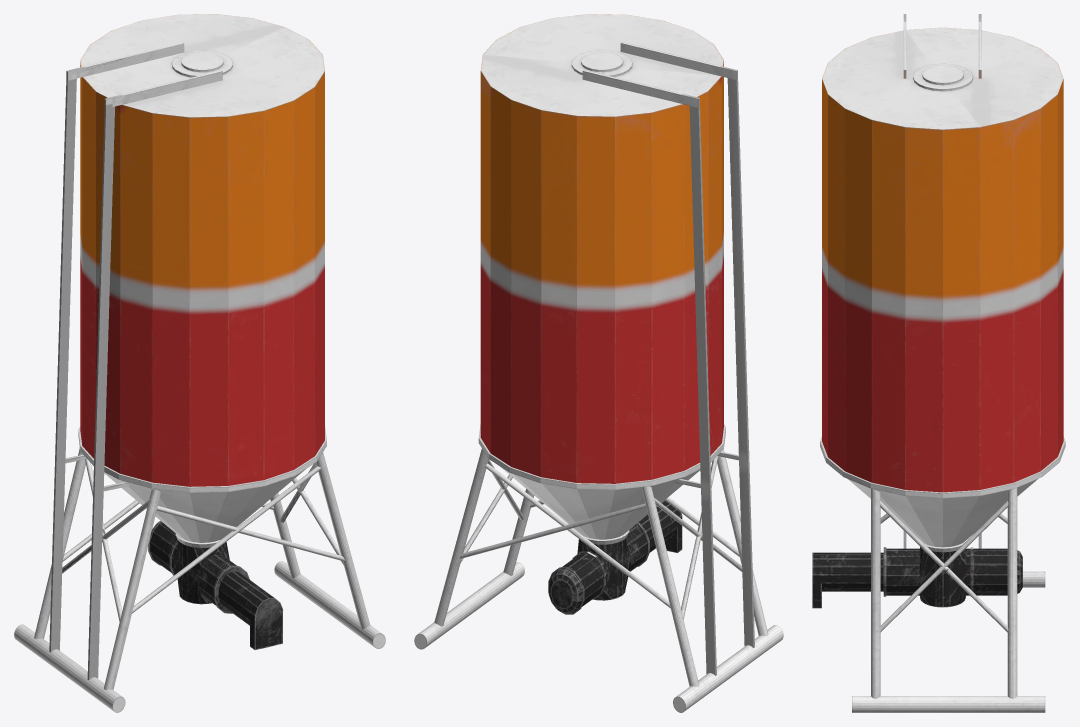
File: mortar-silo.glb
3 views of the same model, side by side, from view 1: azimuth 30°, elevation 25°; view 2: azimuth 150°, elevation 25°; view 3: azimuth 270°, elevation 25° (orthographic).
Visible parts, largest first — view 1: cement_silo; view 2: cement_silo; view 3: cement_silo.
Part boxes in pixels (x1=…): cement_silo: x1=14, y1=14, x2=385, y2=712; cement_silo: x1=414, y1=14, x2=783, y2=712; cement_silo: x1=812, y1=14, x2=1065, y2=712.
Size of the model in its own units: 6.41 by 13.23 by 5.24.
Materials: 1 (1 with a texture image).
